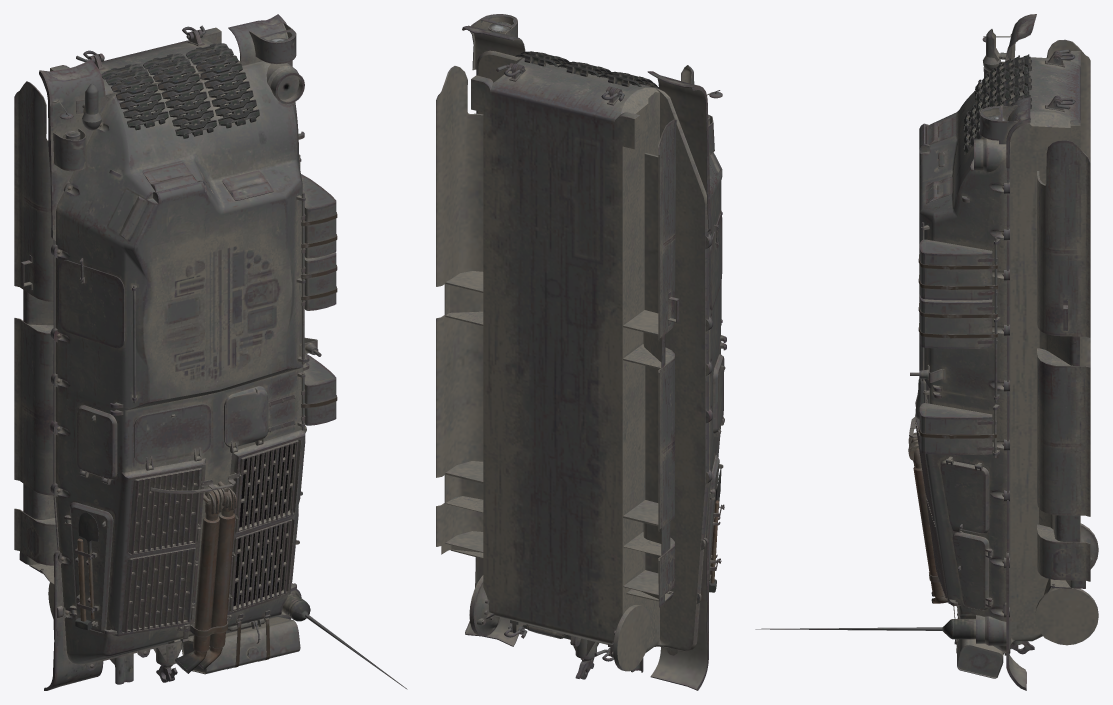
File: Hull.glb
3 views of the same model, side by side, from view 1: azimuth 30°, elevation 25°; view 2: azimuth 150°, elevation 25°; view 3: azimuth 270°, elevation 25° (orthographic). The views are drawn at different scales.
Parts seen in each view (by area): view 1: set_0_group_0; view 2: set_0_group_0; view 3: set_0_group_0.
Boxes of the visible parts, bbox=[...] form: set_0_group_0: bbox=[14, 14, 407, 690]; set_0_group_0: bbox=[436, 14, 726, 690]; set_0_group_0: bbox=[755, 14, 1098, 690].
Bounding box in the file's own units: 2.18 × 5.41 × 2.86.
1 material, 1 textured.
